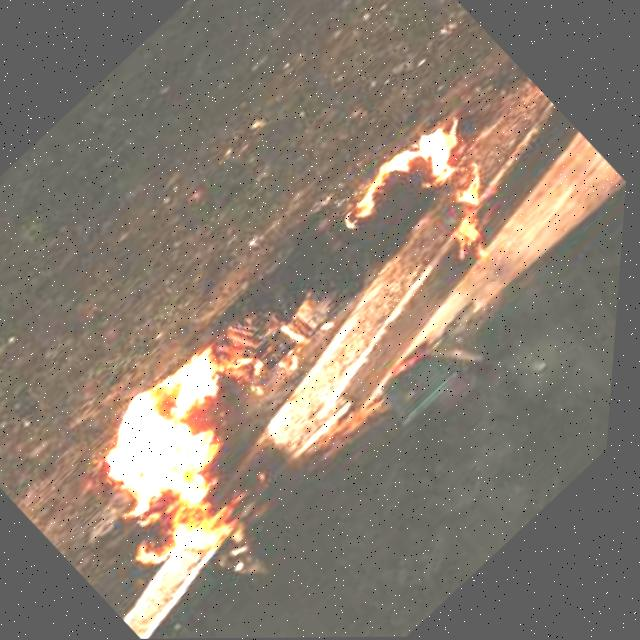Fire: (56, 345, 312, 588), (319, 85, 553, 308)
